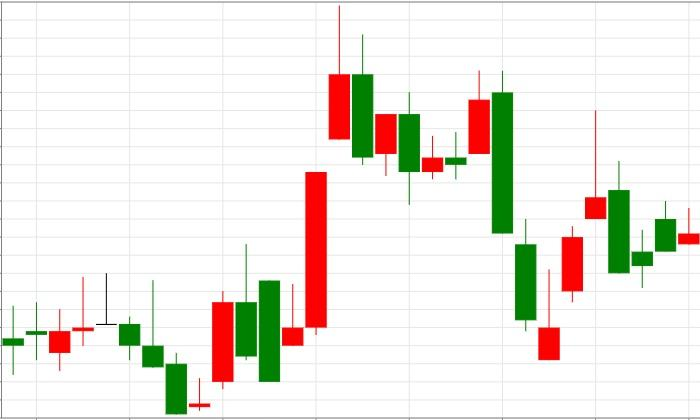bearish_engulfing_fall: (421, 70, 514, 234)
evening_star_fall: (2, 272, 141, 375)
shooting_star_fall: (538, 110, 607, 361)
